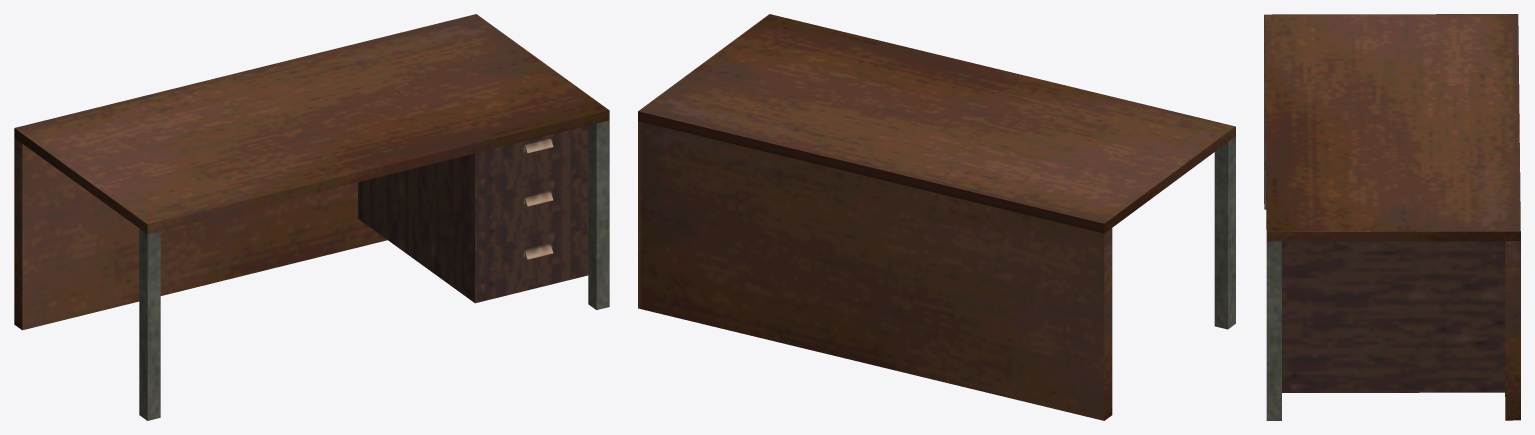
File: desk2_alt3.obj
3 views of the same model, side by side, from view 1: azimuth 30°, elevation 25°; view 2: azimuth 150°, elevation 25°; view 3: azimuth 270°, elevation 25° (orthographic). The views are drawn at different scales.
Visible parts, largest first — view 1: desk2_alt3; view 2: desk2_alt3; view 3: desk2_alt3.
Part boxes in pixels (x1,y1,x2,y2): desk2_alt3: [14, 14, 609, 420]; desk2_alt3: [638, 14, 1235, 420]; desk2_alt3: [1264, 14, 1520, 420].
Bounding box in the file's own units: 2.21 × 0.8911 × 1.1.
